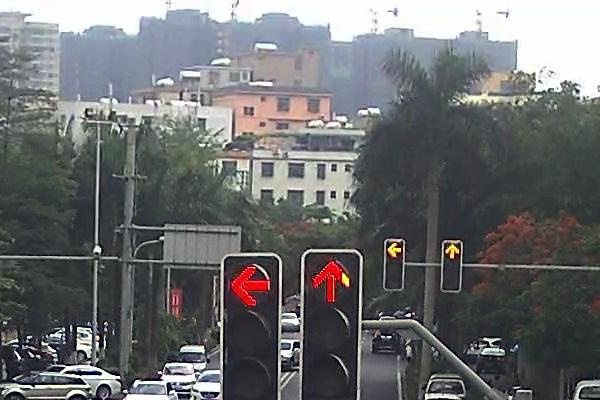redleft: (220, 257, 280, 306), (384, 239, 405, 259)
redstraight: (303, 252, 360, 302), (441, 243, 463, 262)
